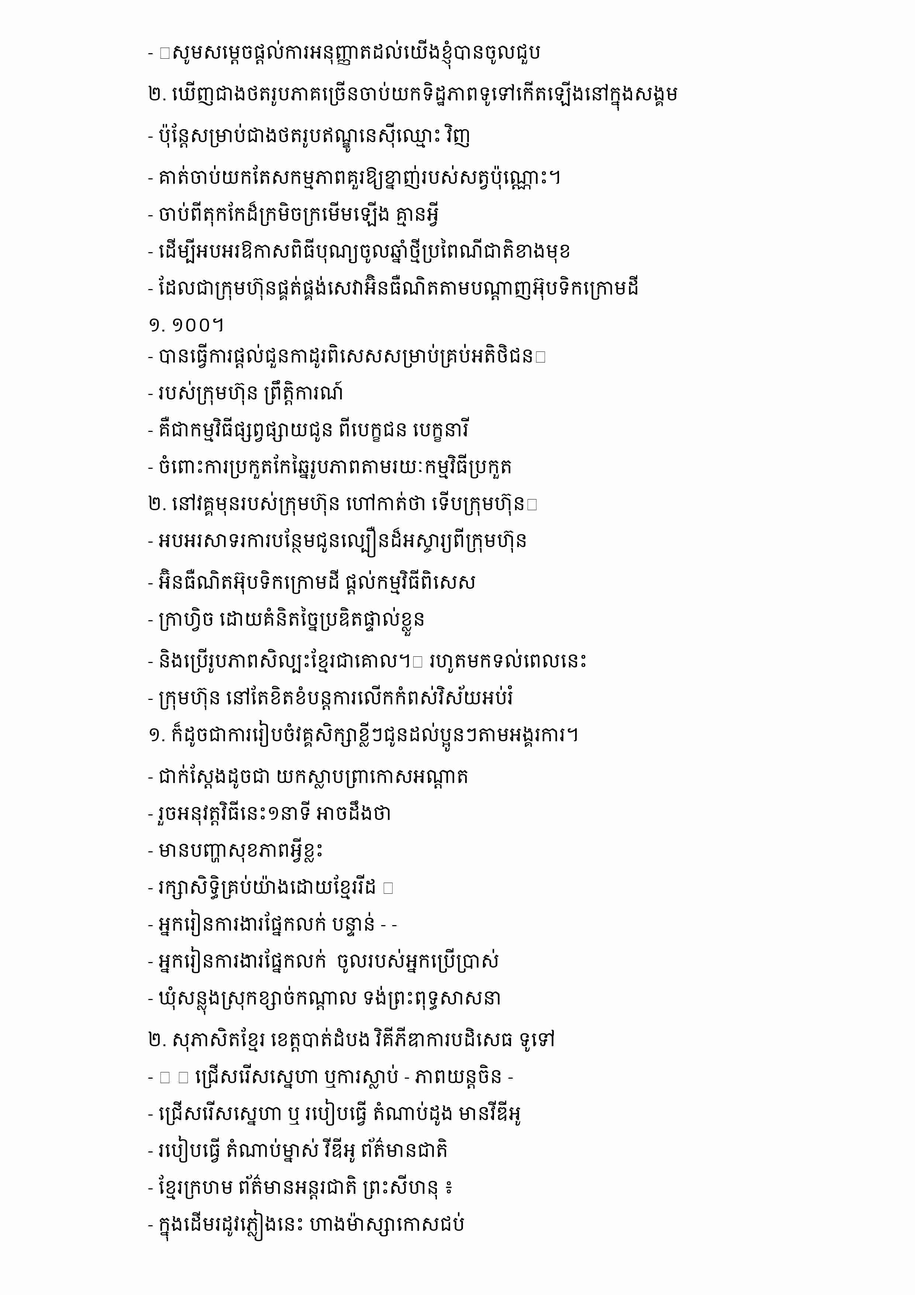text: (148, 81, 683, 111), (148, 720, 584, 752), (148, 274, 644, 300), (148, 526, 532, 558), (148, 39, 546, 69), (148, 238, 576, 264), (148, 648, 592, 673), (148, 165, 566, 190), (148, 986, 507, 1015), (148, 1209, 470, 1241), (148, 1027, 560, 1052), (148, 1099, 526, 1126), (148, 343, 552, 368), (148, 491, 543, 516), (148, 123, 476, 153), (148, 946, 504, 973), (148, 685, 518, 710), (148, 1064, 518, 1089), (148, 454, 517, 479), (148, 568, 481, 595), (148, 606, 431, 636), (148, 416, 474, 442), (148, 1136, 453, 1163), (148, 764, 474, 789), (148, 1174, 459, 1200), (148, 201, 444, 227), (148, 909, 402, 937), (148, 874, 400, 900), (148, 800, 397, 826), (148, 380, 349, 405), (148, 837, 329, 863), (148, 318, 229, 332)
